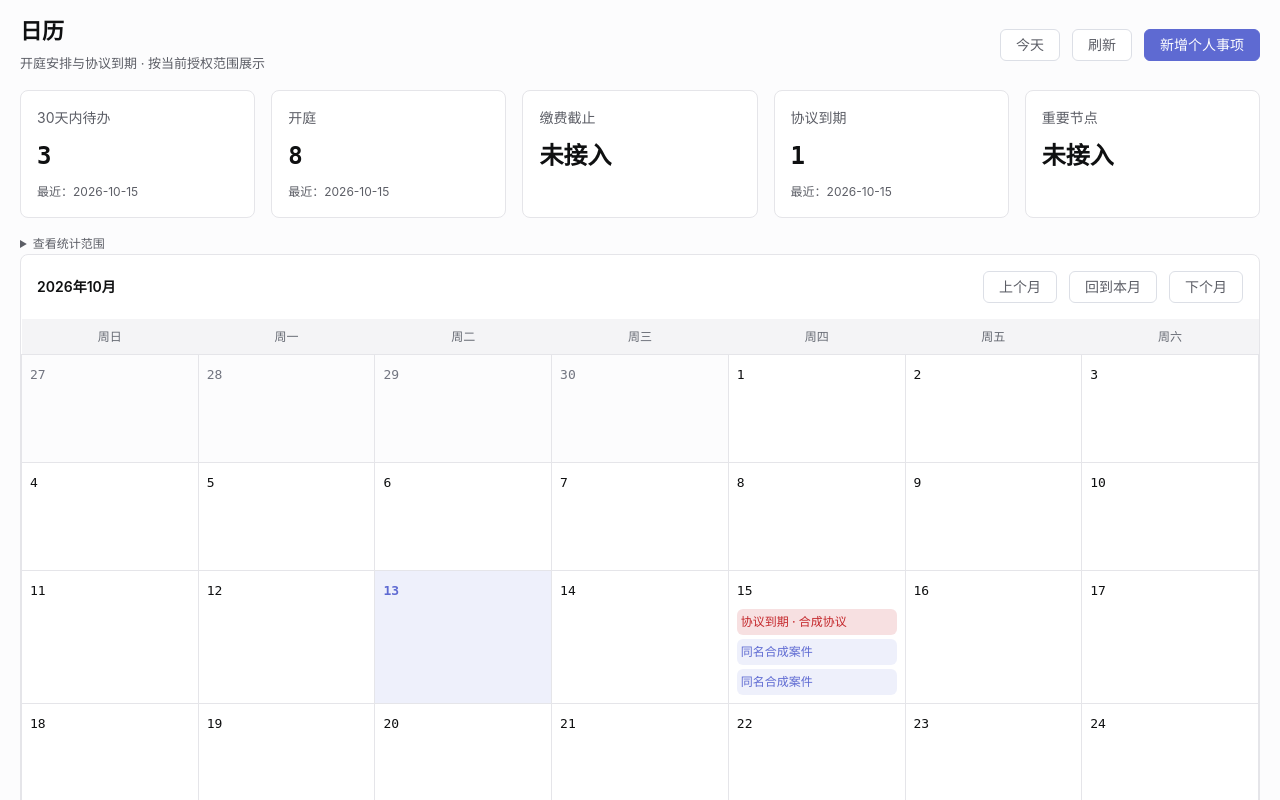
CalendarPage › clears old data on failed refresh and retries without pretending failure is empty
The width and height of the screenshot is (1280, 800).
Click the button with aria-label "刷新日历": (1102, 45) [1072,29,1132,61]
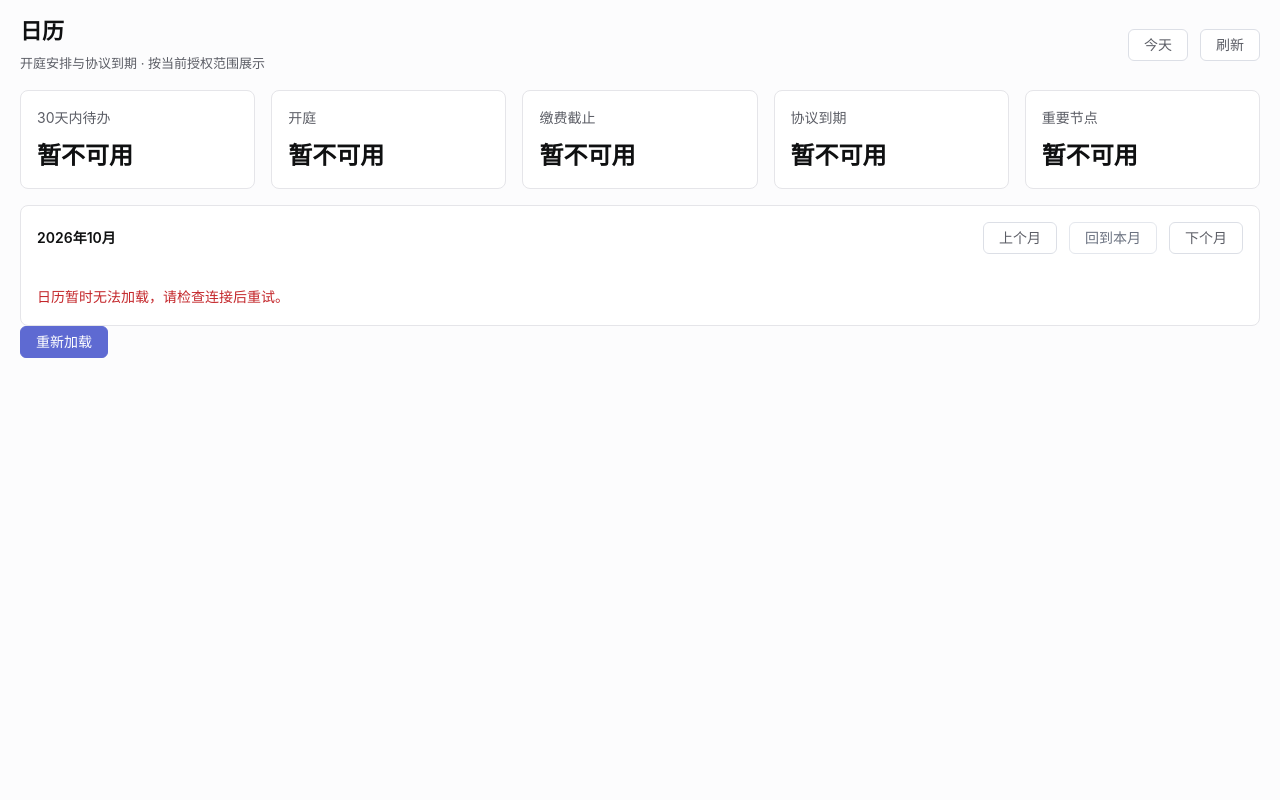
Check: the text "暂时无法加载" is shown, box [37,288,289,305]
Check: the 2nd text "暂不可用" is shown, box [288,142,384,170]
Click the button "重新加载": (64, 342) [20,326,108,358]
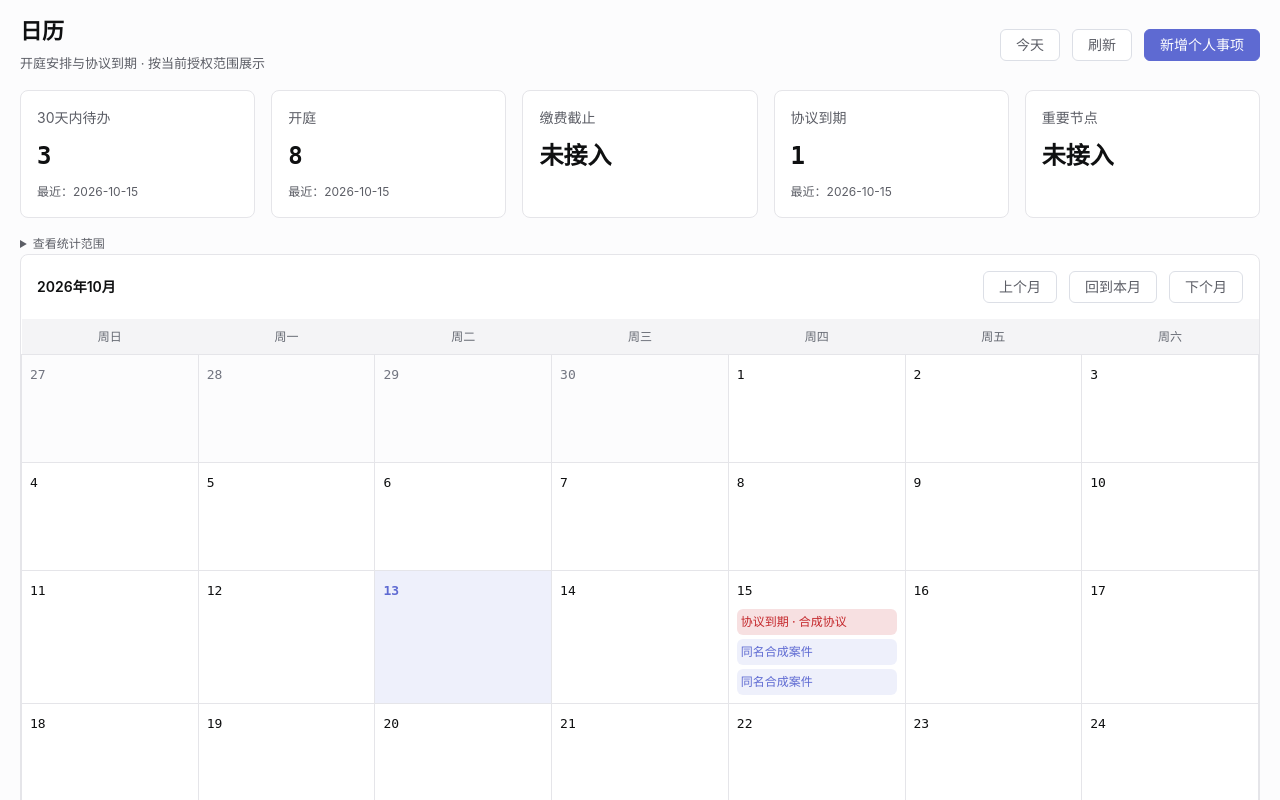
Check: the number of buttons with class "calendar-event" is 3, box [737,609,896,635]; [737,639,896,665]; [737,669,896,695]
